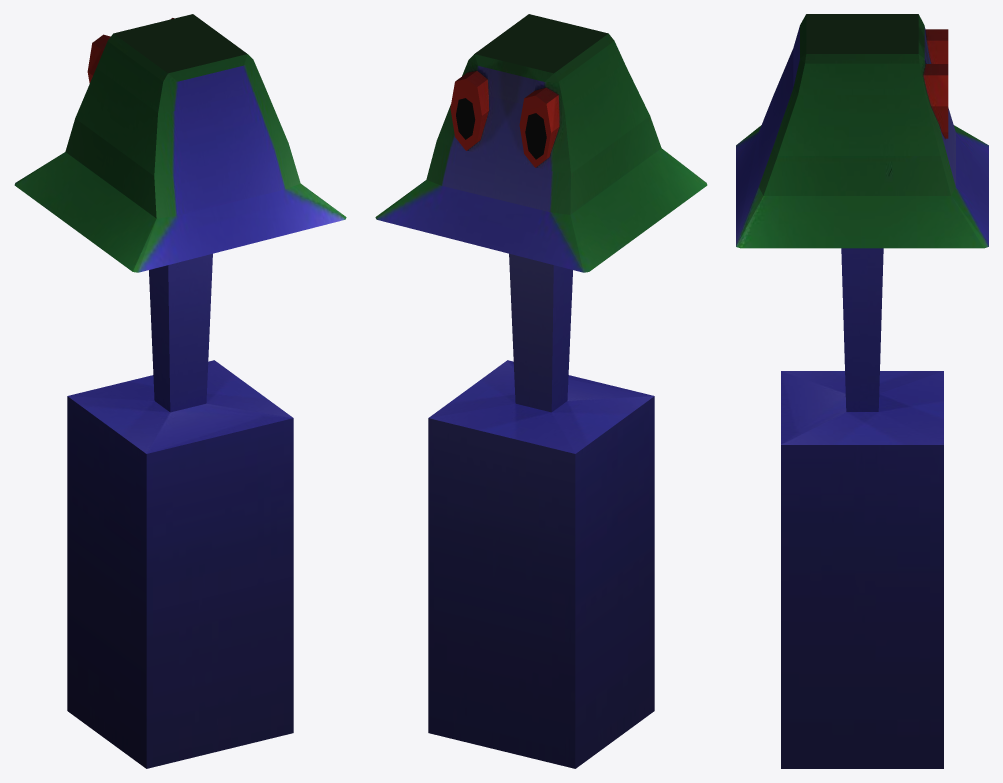
Rendered from superdoublebaker5.dae.
3 renders of one model, left to right at view 1: azimuth 30°, elevation 25°; view 2: azimuth 150°, elevation 25°; view 3: azimuth 270°, elevation 25°, orthographic. The views are drawn at different scales.
Parts seen in each view (by area): view 1: superdoublebaker; view 2: superdoublebaker; view 3: superdoublebaker.
Part boxes in pixels (box(x1,y1,x2,y2)): superdoublebaker: box(14, 14, 346, 768); superdoublebaker: box(375, 14, 707, 768); superdoublebaker: box(736, 14, 988, 768).
Bounding box in the file's own units: 2.01 × 2 × 6.09.
Materials: 1 (1 with a texture image).
